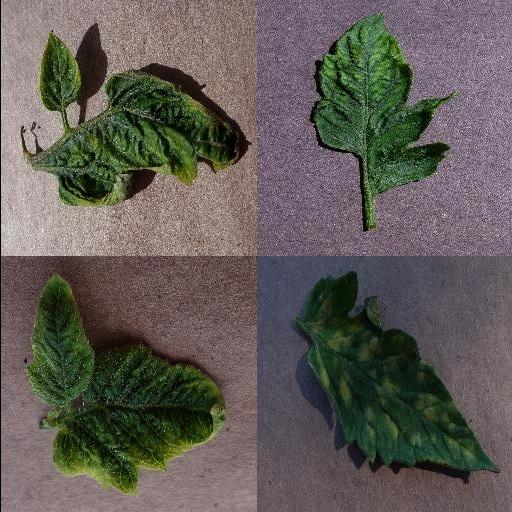Leaf Mold: (307, 270, 501, 474)
Mosaic Virus: (311, 12, 455, 194)
Yellow Leaf Curl Virus: (33, 70, 241, 210), (50, 342, 226, 490), (24, 273, 94, 406), (38, 32, 80, 110)
